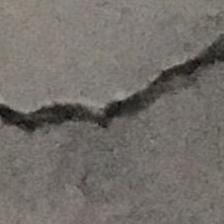Crack: (1, 23, 224, 142)
